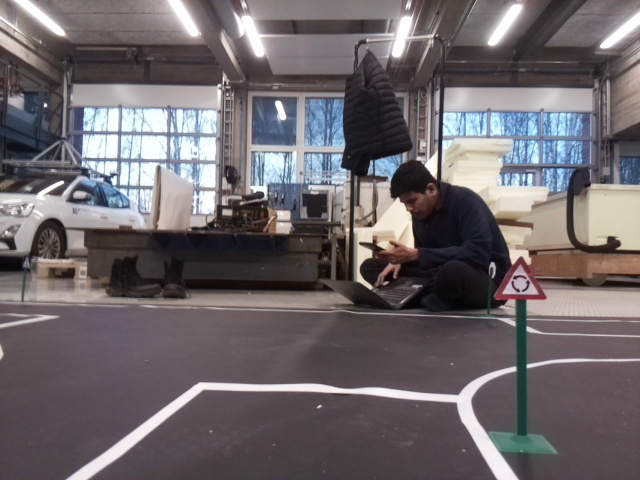Roundabout: (495, 256, 547, 298)
